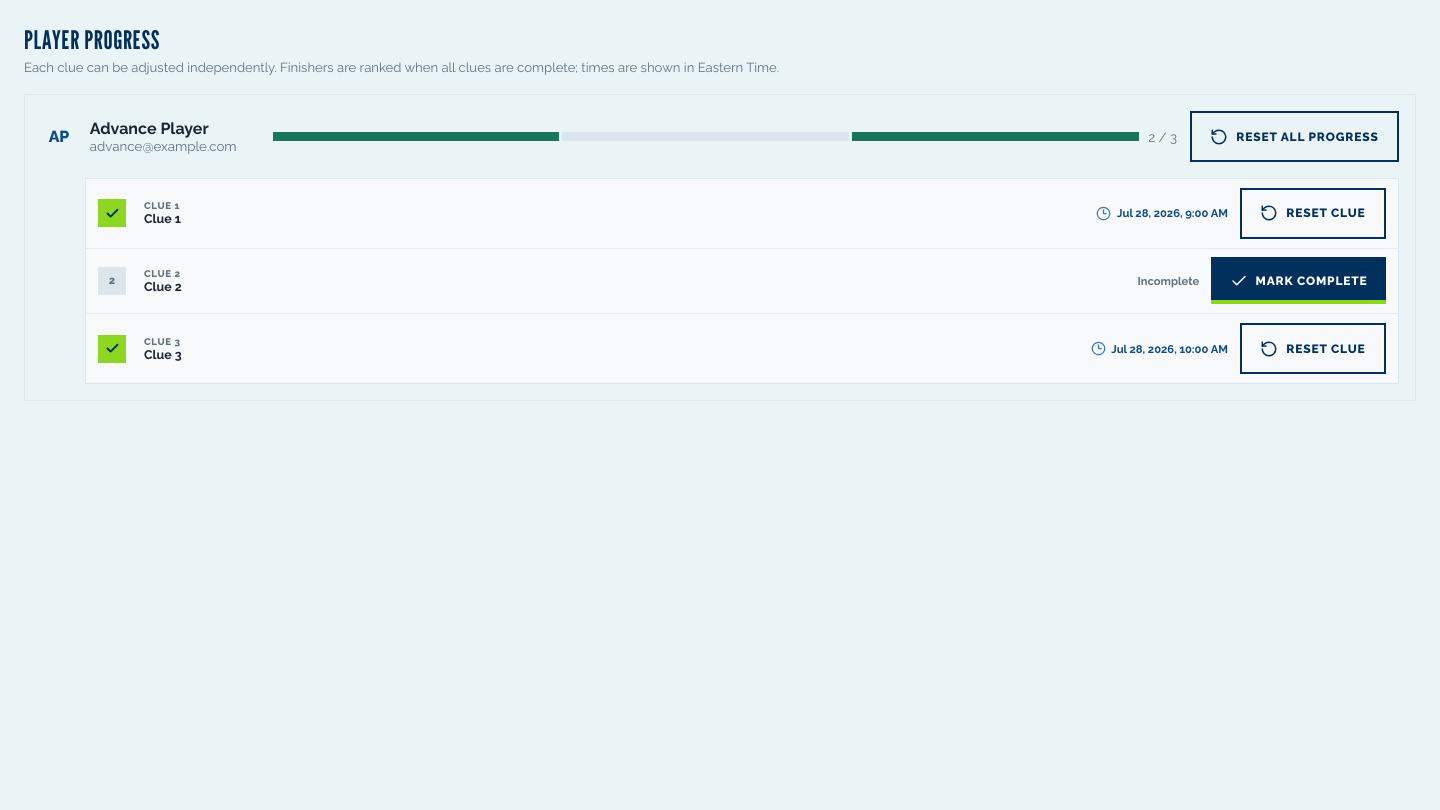
Test: admin player progress › lets an admin mark any individual clue complete
Click the button "Mark complete" at [1299, 281], box 1211,257 -> 1386,304
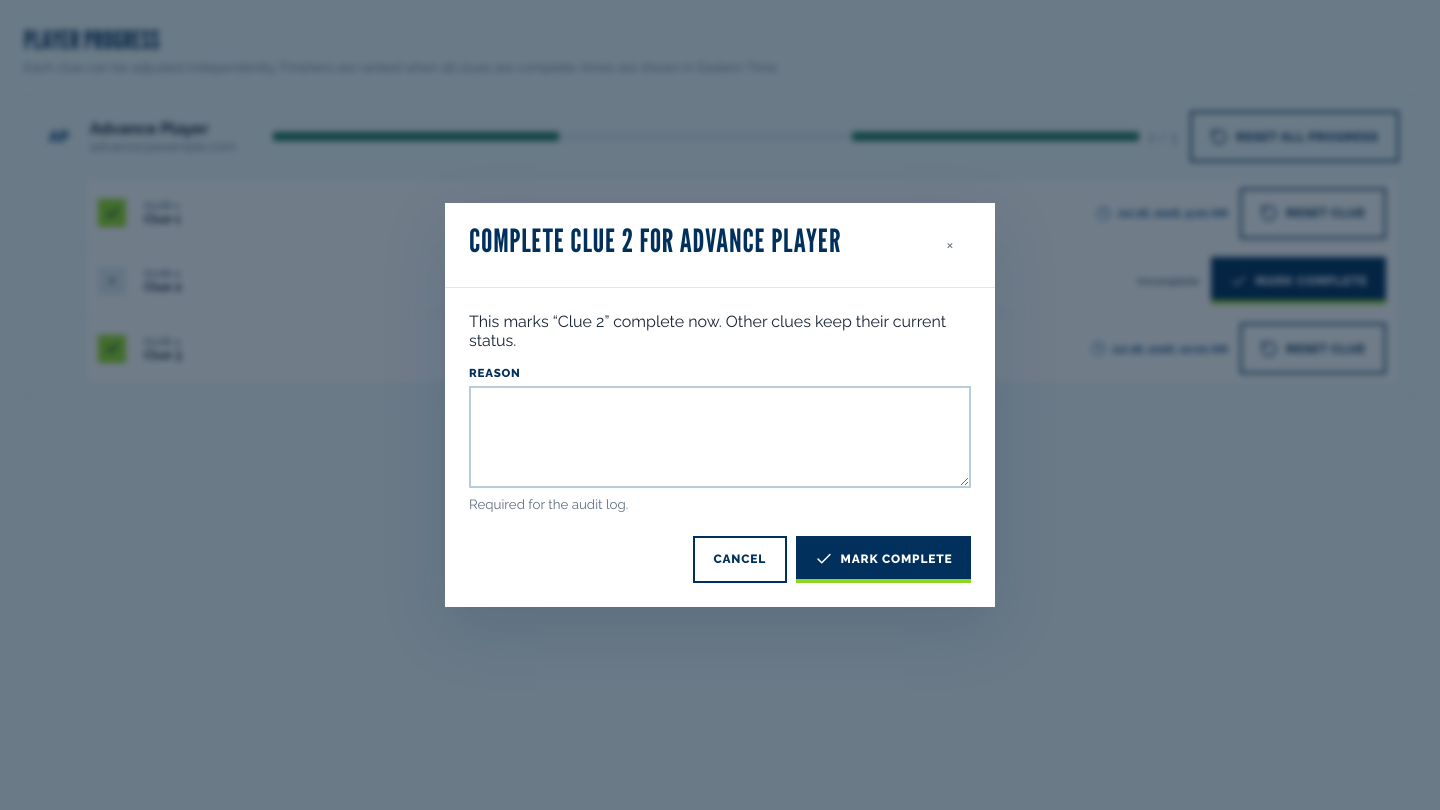
Expected: the heading "Complete clue 2 for Advance Player" is shown, 469,224 -> 841,256
Expected: the text "Other clues keep their current status" is shown, 469,312 -> 946,350
